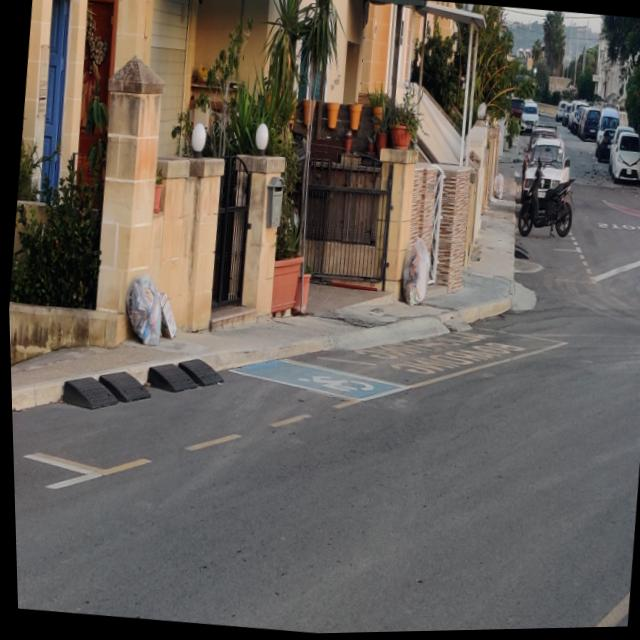Recyclable Material -Grey Bags-: (123, 272, 175, 348), (400, 241, 428, 313), (490, 174, 503, 202)
